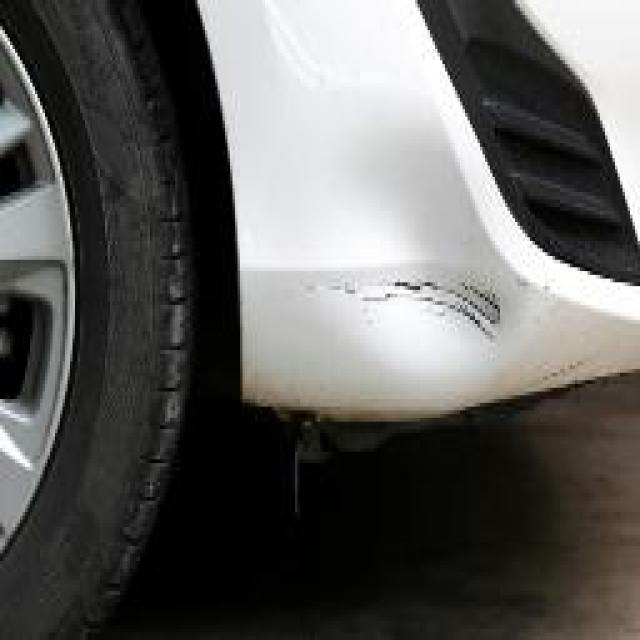Bonnet: (230, 105, 545, 463)
